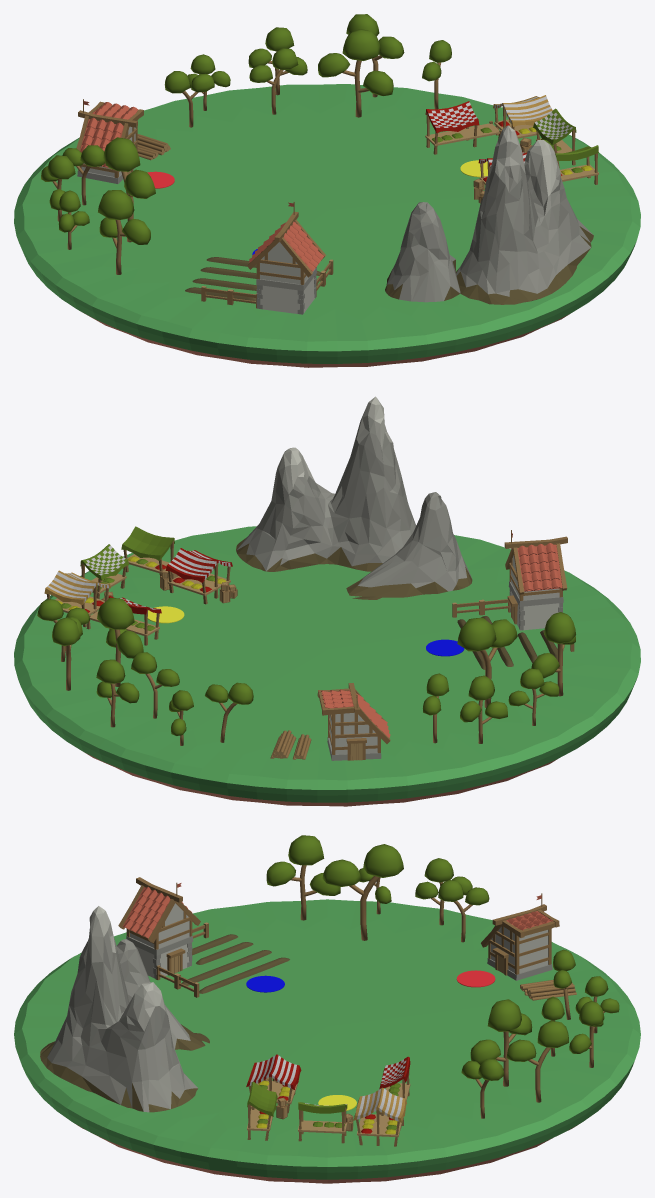
Rendered from town.glb.
3 renders of one model, top to bottom at view 1: azimuth 30°, elevation 25°; view 2: azimuth 150°, elevation 25°; view 3: azimuth 270°, elevation 25°, orthographic.
Parts seen in each view (by area): view 1: Circle, Mountain_Group_2, Farm_SecondAge_Level2, Market_FirstAge_Level3, Houses_SecondAge_2_Level1, Resource_Tree1.002, Resource_Tree1.005, Resource_Tree2, Resource_Tree1.004, Resource_Tree2.005, Resource_Tree2.004, Resource_Tree2.002 (+6 smaller); view 2: Circle, Mountain_Group_2, Market_FirstAge_Level3, Farm_SecondAge_Level2, Houses_SecondAge_2_Level1, Resource_Tree2, Resource_Tree1.002, Resource_Tree1.005, Resource_Tree1.001, Resource_Tree1.004, Resource_Tree1, Resource_Tree2.004 (+6 smaller); view 3: Circle, Mountain_Group_2, Farm_SecondAge_Level2, Market_FirstAge_Level3, Houses_SecondAge_2_Level1, Resource_Tree2, Resource_Tree1.005, Resource_Tree1.002, Resource_Tree2.005, Resource_Tree1.001, Resource_Tree1.004, Resource_Tree2.001 (+6 smaller).
Part boxes in pixels (box(x1,y1,x2,y2)): Circle: box(14, 84, 640, 367); Mountain_Group_2: box(385, 125, 593, 304); Farm_SecondAge_Level2: box(185, 201, 333, 314); Market_FirstAge_Level3: box(425, 95, 598, 203); Houses_SecondAge_2_Level1: box(76, 99, 143, 183); Resource_Tree1.002: box(318, 29, 393, 117); Resource_Tree1.005: box(98, 190, 150, 274); Resource_Tree2: box(103, 137, 155, 242); Resource_Tree1.004: box(248, 27, 307, 95); Resource_Tree2.005: box(346, 14, 404, 97); Resource_Tree2.004: box(249, 48, 298, 114); Resource_Tree2.002: box(164, 71, 214, 127); Circle: box(14, 526, 640, 806); Mountain_Group_2: box(236, 396, 472, 599); Market_FirstAge_Level3: box(44, 526, 237, 645); Farm_SecondAge_Level2: box(452, 530, 574, 669); Houses_SecondAge_2_Level1: box(317, 683, 390, 760); Resource_Tree2: box(457, 617, 517, 707); Resource_Tree1.002: box(97, 597, 143, 686); Resource_Tree1.005: box(531, 612, 575, 696); Resource_Tree1.001: box(460, 675, 507, 743); Resource_Tree1.004: box(96, 659, 139, 727); Resource_Tree1: box(508, 668, 559, 725); Resource_Tree2.004: box(131, 652, 179, 718); Circle: box(14, 899, 640, 1183); Mountain_Group_2: box(40, 906, 209, 1112); Farm_SecondAge_Level2: box(118, 877, 289, 997); Market_FirstAge_Level3: box(246, 1054, 410, 1146); Houses_SecondAge_2_Level1: box(481, 893, 559, 980); Resource_Tree2: box(322, 844, 403, 940); Resource_Tree1.005: box(266, 835, 340, 920); Resource_Tree1.002: box(470, 999, 532, 1086); Resource_Tree2.005: box(506, 1020, 568, 1102); Resource_Tree1.001: box(415, 858, 472, 925); Resource_Tree1.004: box(569, 1001, 604, 1067); Resource_Tree2.001: box(438, 880, 489, 942).
Size of the model in its own units: 8.04 by 2.77 by 8.04.
